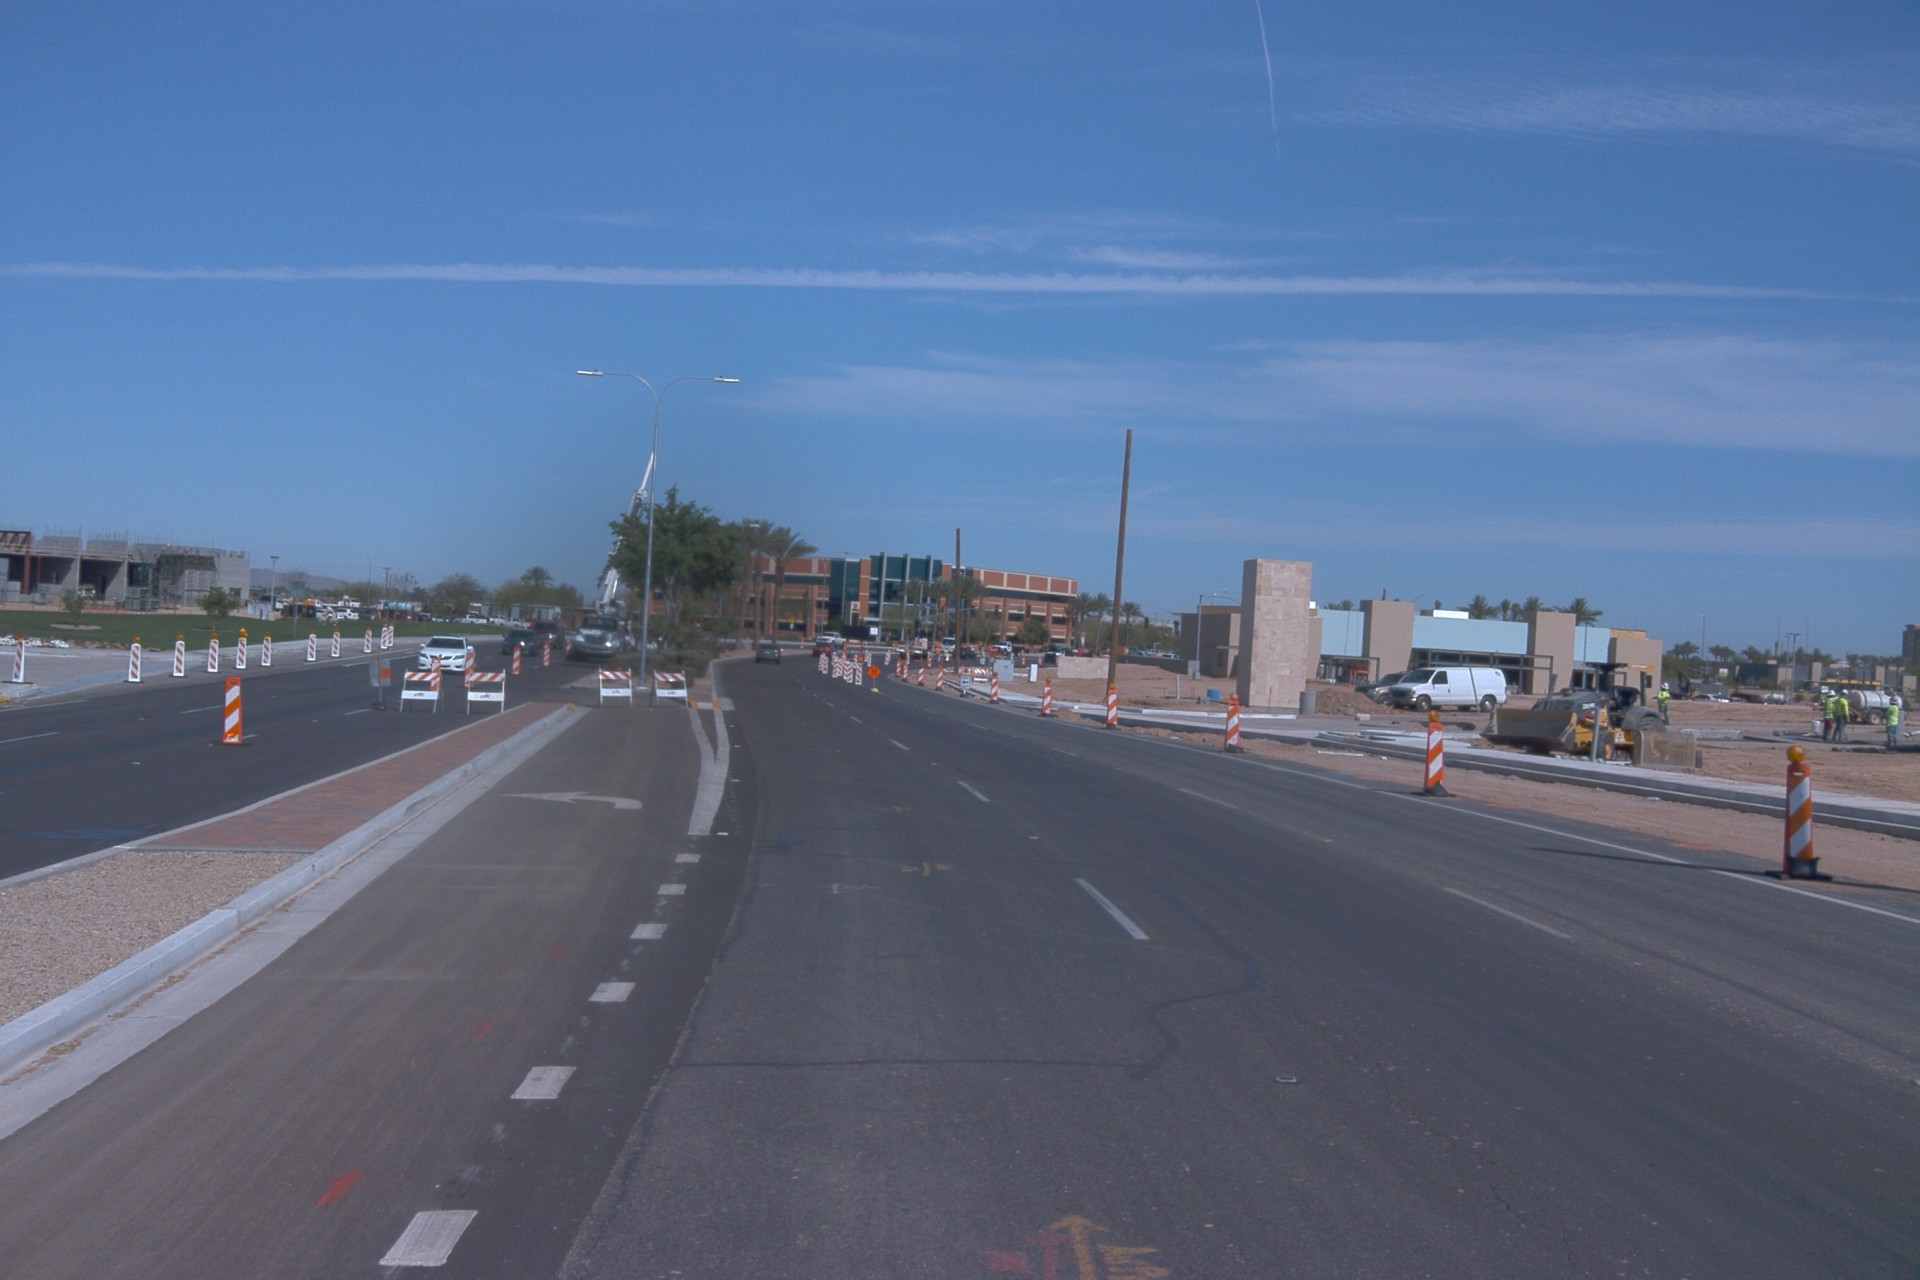TYPE_PEDESTRIAN: (1831, 688, 1852, 744), (1882, 695, 1901, 753), (1823, 688, 1842, 744), (1657, 681, 1672, 726), (945, 646, 951, 661)
TYPE_VEHICLE: (563, 452, 659, 667), (1386, 664, 1509, 714), (1845, 686, 1908, 726), (417, 634, 477, 674), (835, 619, 873, 672), (887, 636, 947, 669), (1353, 672, 1411, 706), (525, 619, 566, 654), (501, 627, 536, 656), (241, 593, 291, 612), (1039, 645, 1080, 667), (986, 636, 1027, 657), (379, 606, 420, 625), (279, 600, 318, 619), (1687, 692, 1732, 706), (815, 631, 848, 650), (808, 639, 837, 660), (451, 609, 490, 624), (354, 607, 386, 625), (753, 644, 783, 663), (1601, 684, 1641, 697), (1728, 692, 1767, 705), (73, 580, 94, 604), (938, 634, 963, 654), (314, 606, 345, 622), (1651, 691, 1691, 703), (333, 604, 359, 622), (1555, 686, 1589, 697)
